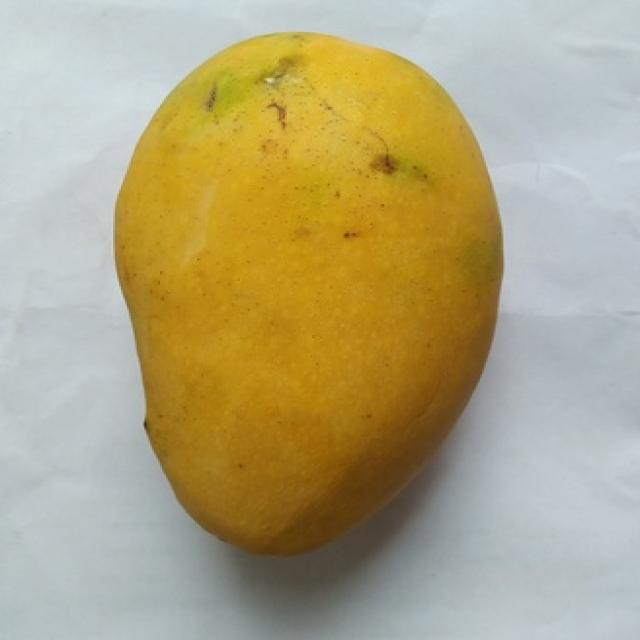Mango: (115, 34, 501, 554)
